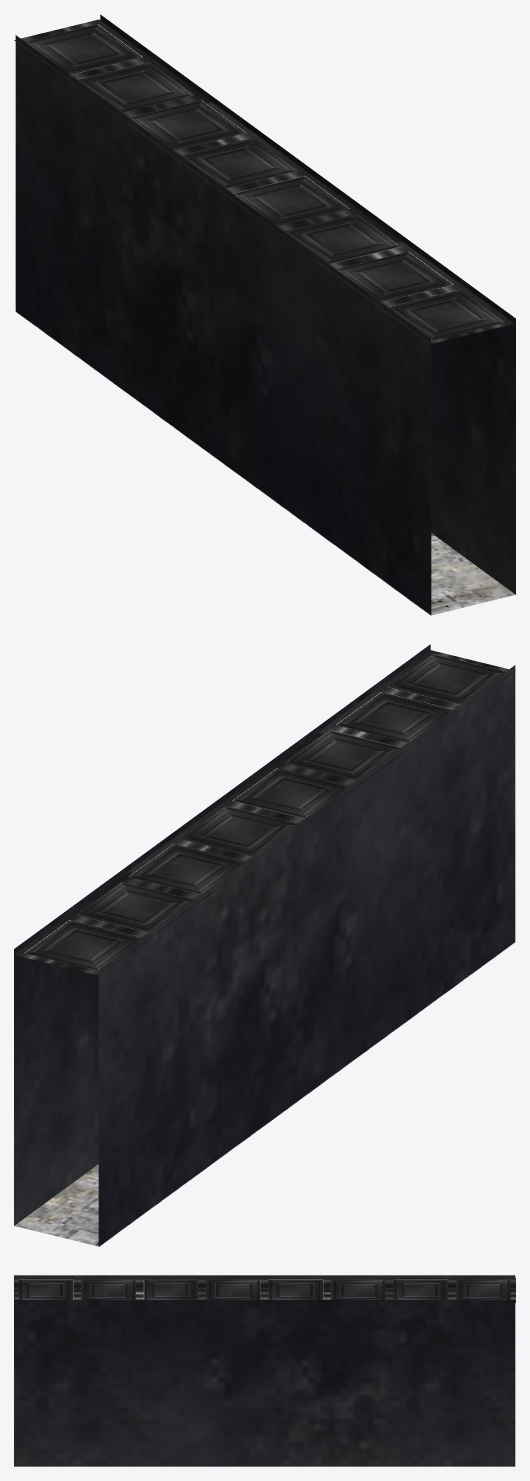
Rendered from infin-hallwy.glb.
3 views of the same model, one above another, from view 1: azimuth 30°, elevation 25°; view 2: azimuth 150°, elevation 25°; view 3: azimuth 270°, elevation 25° (orthographic). The views are drawn at different scales.
Visible parts, largest first — view 1: inf_hallway_wls, inf_hallway_ceiling_tile, inf_hallway_ceiling_bars, inf_hallway_floor.001; view 2: inf_hallway_wls, inf_hallway_ceiling_tile, inf_hallway_ceiling_bars, inf_hallway_floor.001; view 3: inf_hallway_wls, inf_hallway_ceiling_tile, inf_hallway_ceiling_bars.
Part boxes in pixels (left/top/right/bottom): inf_hallway_wls: left=15, top=14, right=515, bottom=614; inf_hallway_ceiling_tile: left=25, top=24, right=504, bottom=340; inf_hallway_ceiling_bars: left=14, top=19, right=514, bottom=344; inf_hallway_floor.001: left=16, top=312, right=515, bottom=615; inf_hallway_wls: left=14, top=644, right=515, bottom=1246; inf_hallway_ceiling_tile: left=25, top=654, right=505, bottom=970; inf_hallway_ceiling_bars: left=14, top=650, right=515, bottom=975; inf_hallway_floor.001: left=14, top=942, right=515, bottom=1246; inf_hallway_wls: left=14, top=1275, right=515, bottom=1466; inf_hallway_ceiling_tile: left=18, top=1279, right=510, bottom=1299; inf_hallway_ceiling_bars: left=14, top=1278, right=515, bottom=1302.
Size of the model in its own units: 3.88 by 11.94 by 32.59.
5 materials, 4 textured.
